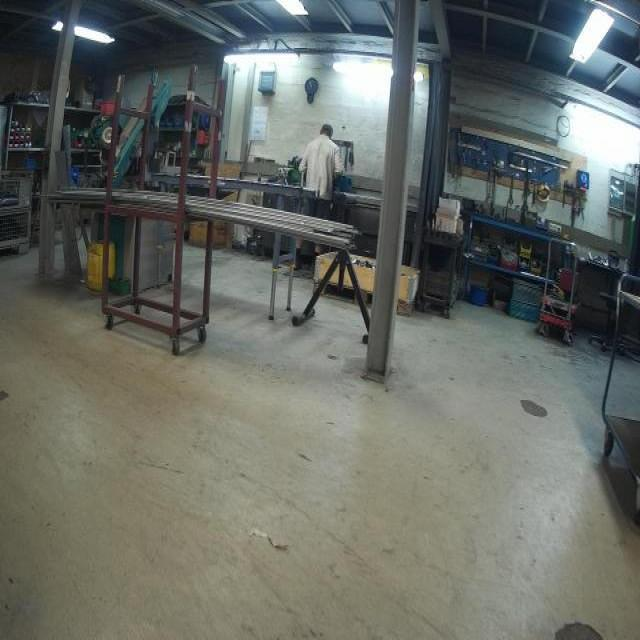pallet: (311, 278, 415, 320)
stillage: (4, 178, 33, 255)
